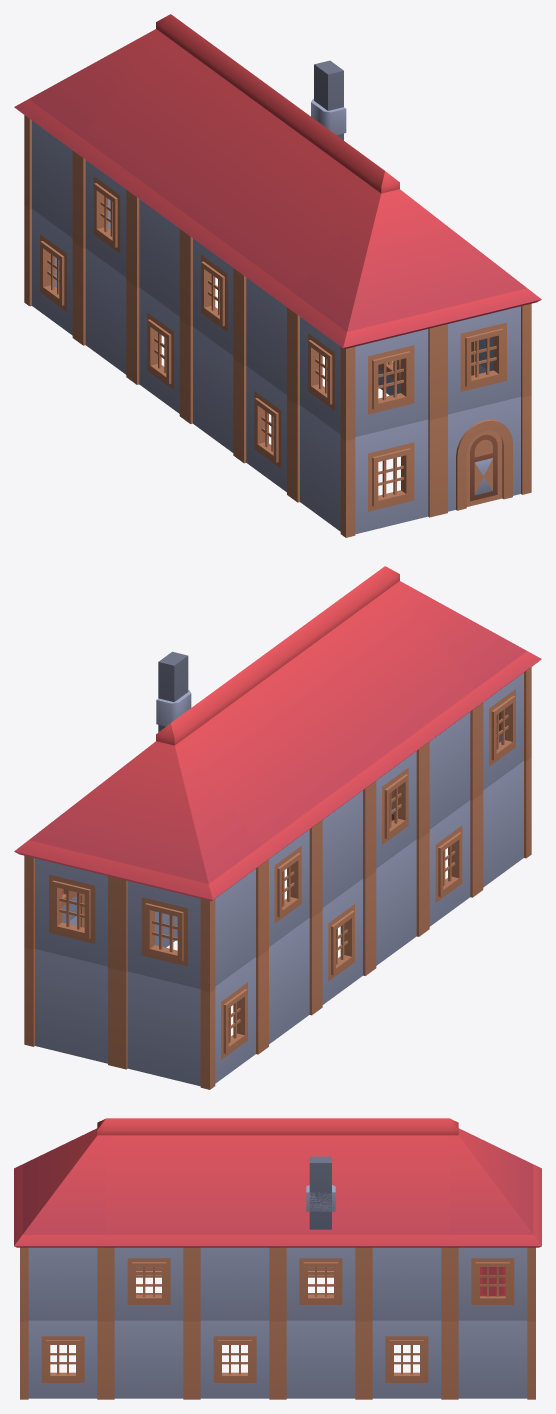
Rendered from hall.glb.
3 renders of one model, top to bottom at view 1: azimuth 30°, elevation 25°; view 2: azimuth 150°, elevation 25°; view 3: azimuth 270°, elevation 25°, orthographic. The views are drawn at different scales.
Visible parts, largest first — view 1: hall; view 2: hall; view 3: hall.
Boxes of the visible parts, x1,y1,x2,y2 form: hall: (14,14,541,537); hall: (14,566,541,1089); hall: (14,1118,541,1399).
Size of the model in its own units: 6.42 by 9.42 by 18.42.
Materials: 47 (47 with a texture image).
